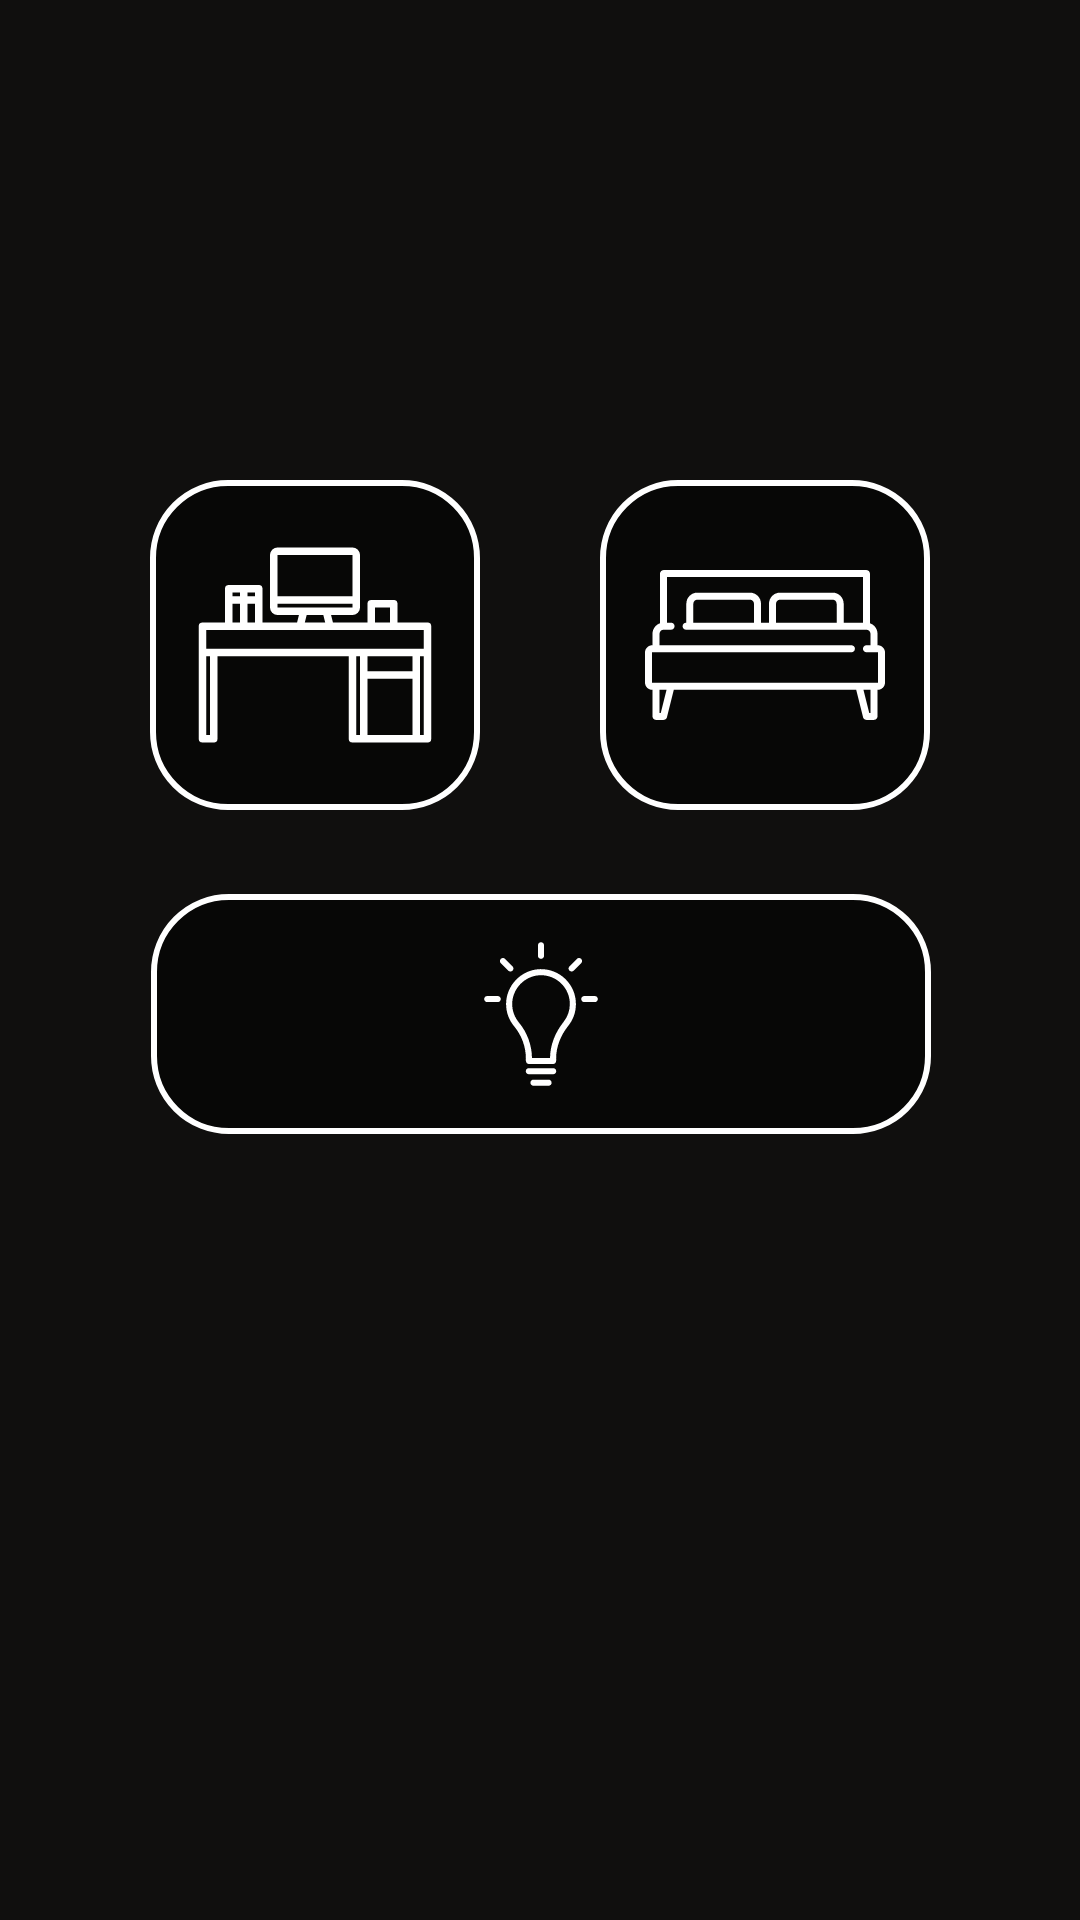

Icon bounding boxes for this 1080 × 1920 phone screenshot, format bbox=(x1, y1, x2, y2):
krevet: bbox=(645, 570, 885, 720)
radni sto: bbox=(198, 547, 432, 743)
svetlo: bbox=(484, 942, 598, 1086)
